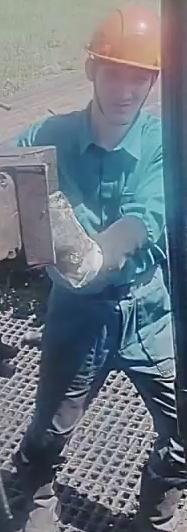gloves: (40, 191, 111, 291)
helmet: (83, 6, 164, 74)
vest: (17, 108, 166, 303)
